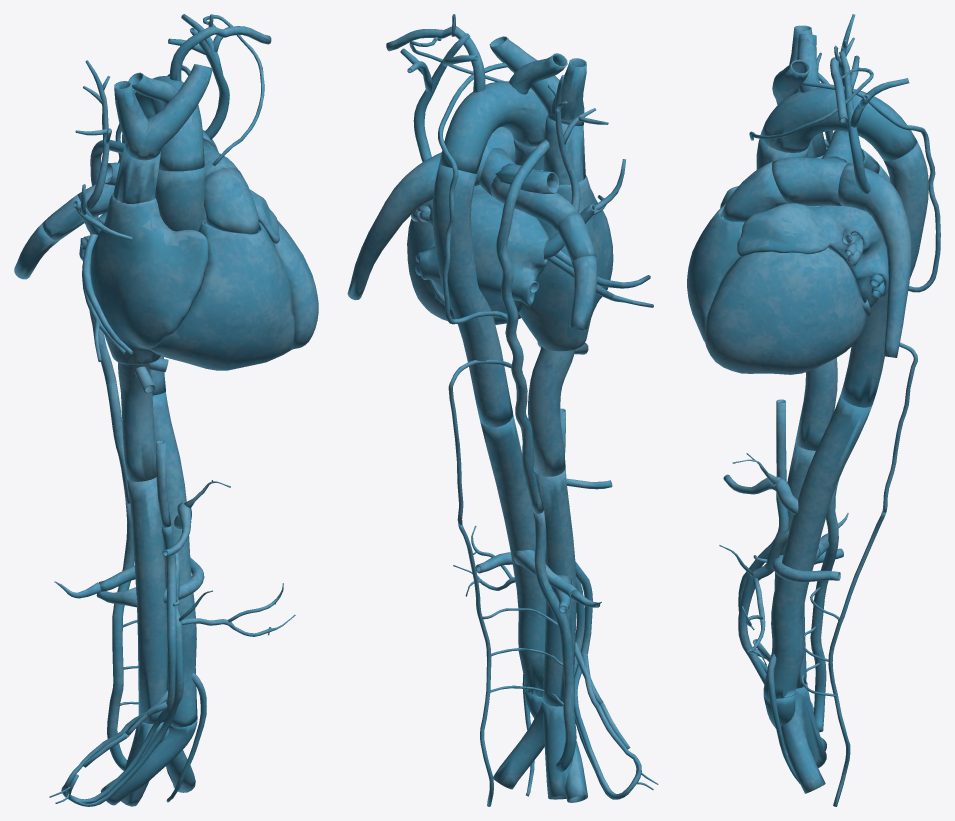
Rendered from heart1111.glb.
The picture shows the model from 3 angles, left to right: view 1: azimuth 30°, elevation 25°; view 2: azimuth 150°, elevation 25°; view 3: azimuth 270°, elevation 25°; orthographic projection.
Visible parts, largest first — view 1: Heart; view 2: Heart; view 3: Heart.
Boxes of the visible parts, x1=… form: Heart: x1=14, y1=14, x2=318, y2=806; Heart: x1=347, y1=14, x2=658, y2=806; Heart: x1=687, y1=14, x2=940, y2=806.
Bounding box in the file's own units: 0.1338 × 0.381 × 0.1127.
1 material, 1 textured.
